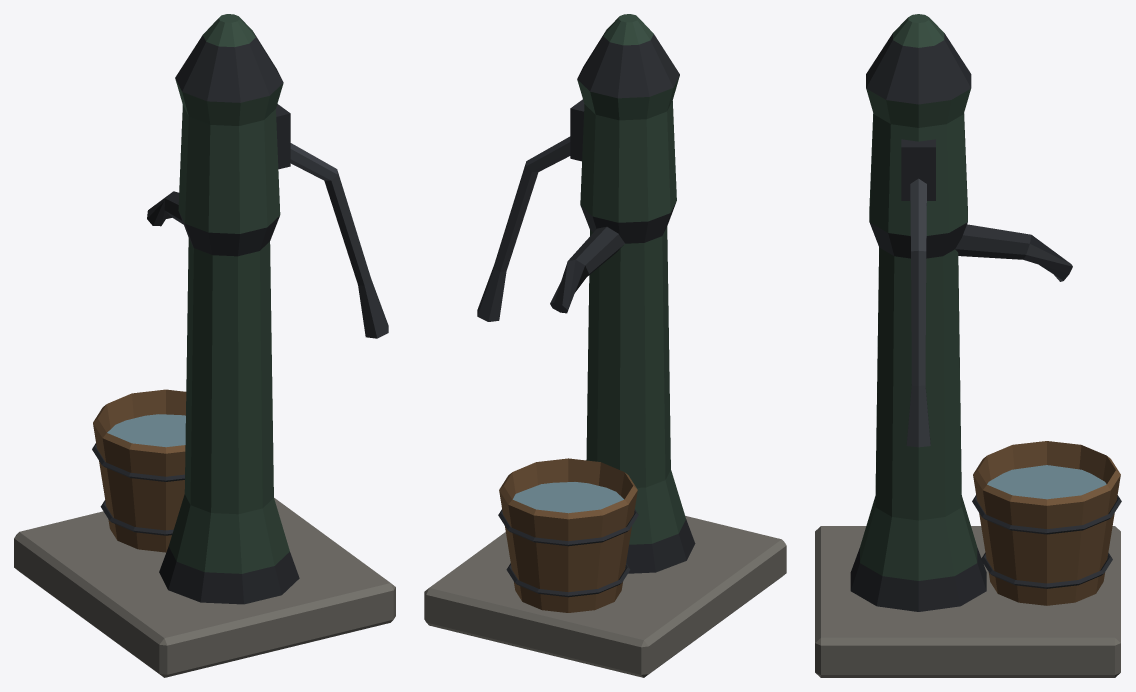
Rendered from prop_pump.glb.
3 views of the same model, side by side, from view 1: azimuth 30°, elevation 25°; view 2: azimuth 150°, elevation 25°; view 3: azimuth 270°, elevation 25° (orthographic). The views are drawn at different scales.
Visible parts, largest first — view 1: prop_pump; view 2: prop_pump; view 3: prop_pump.
Boxes of the visible parts, left/top/right/bottom form: prop_pump: left=14, top=14, right=395, bottom=677; prop_pump: left=424, top=14, right=786, bottom=677; prop_pump: left=815, top=14, right=1121, bottom=677.
Size of the model in its own units: 0.6572 by 1.35 by 0.622.
